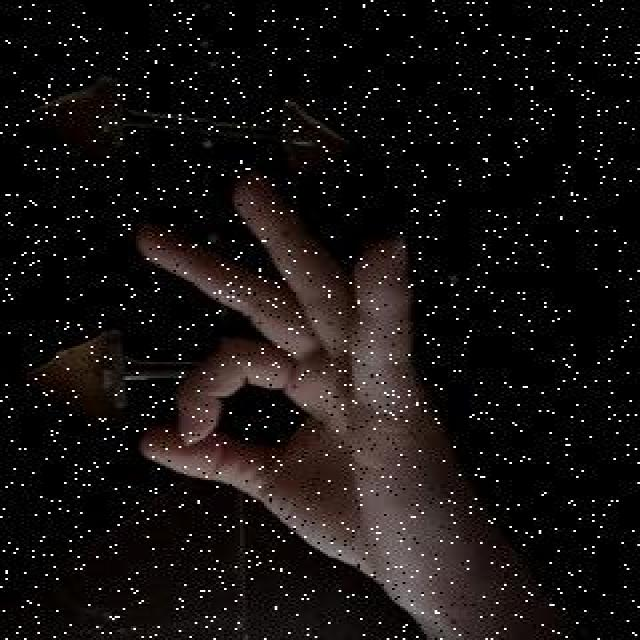F: (127, 165, 473, 563)
